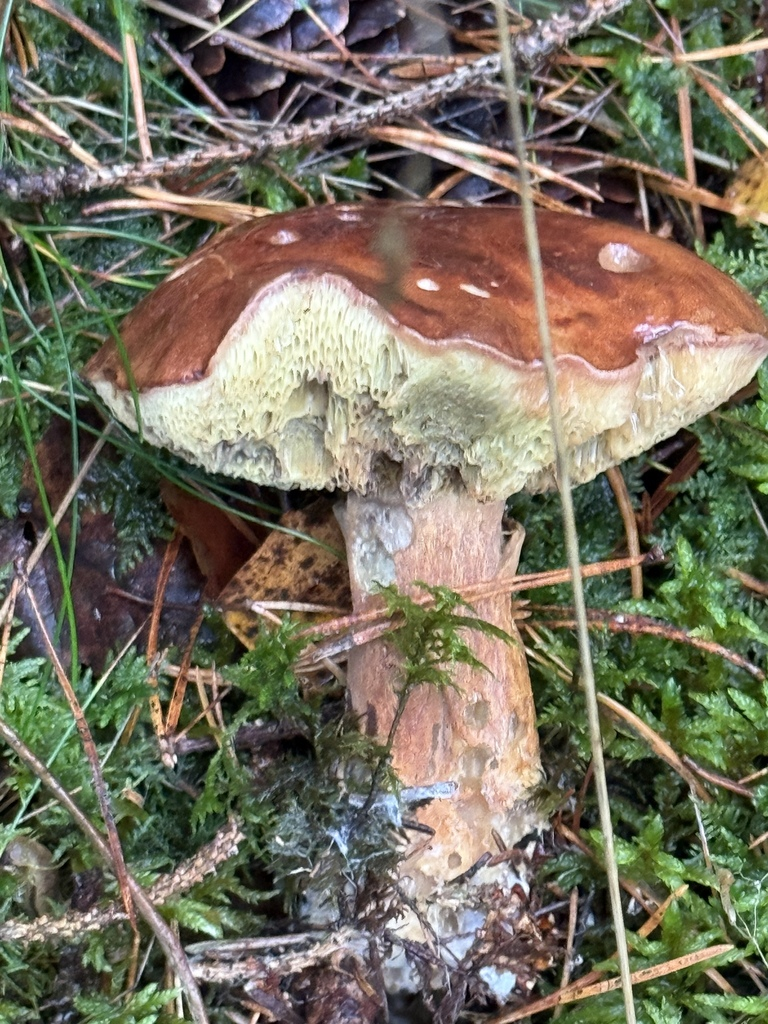Cap: (121, 202, 542, 414), (538, 212, 767, 400)
Stem: (337, 487, 539, 895), (347, 633, 403, 738)
Underside: (141, 275, 552, 503), (563, 326, 760, 481)
